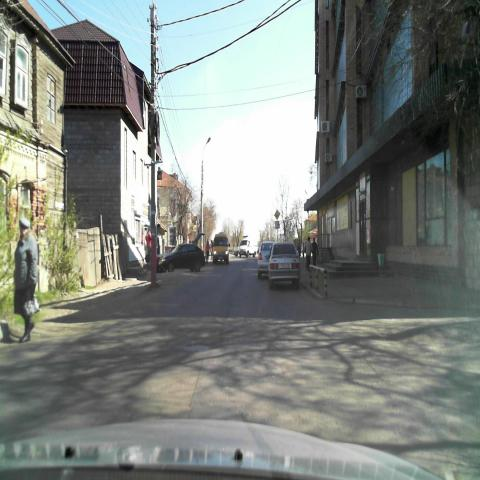2_1: (274, 209, 280, 220)
8_13: (275, 221, 280, 230)
